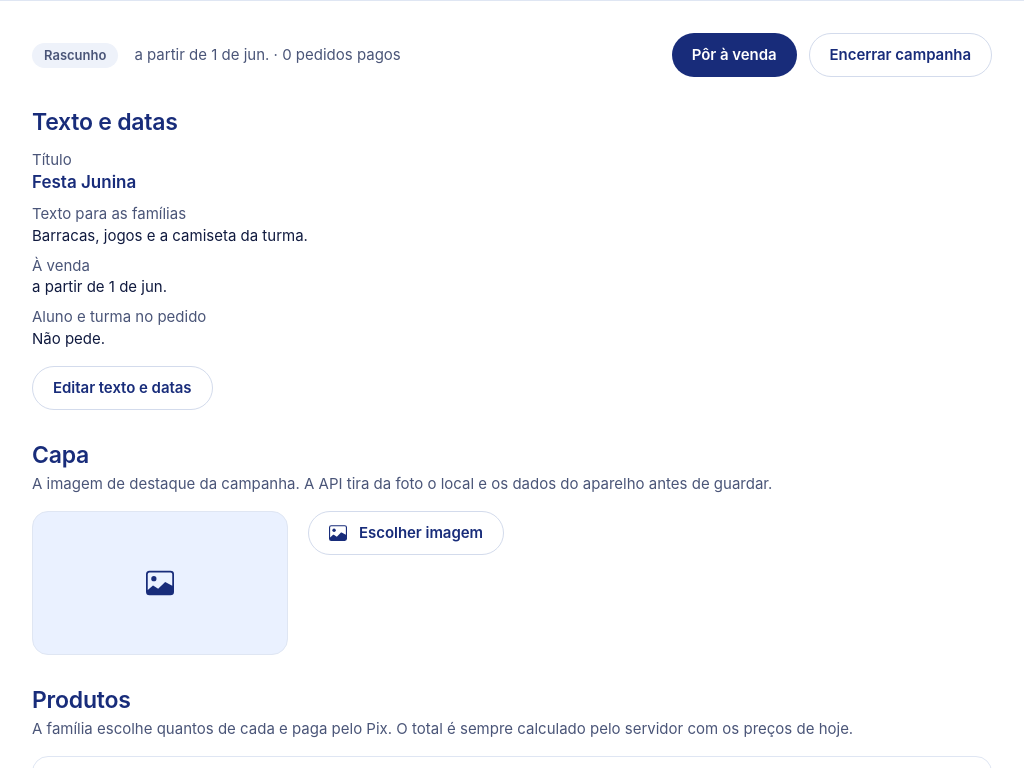
Test: editor de uma campanha › titulo vazio e datas trocadas sao avisados sem falar com a API
The width and height of the screenshot is (1024, 768).
Click the button "Editar texto e datas" at (122, 388), box [32,366,213,410]
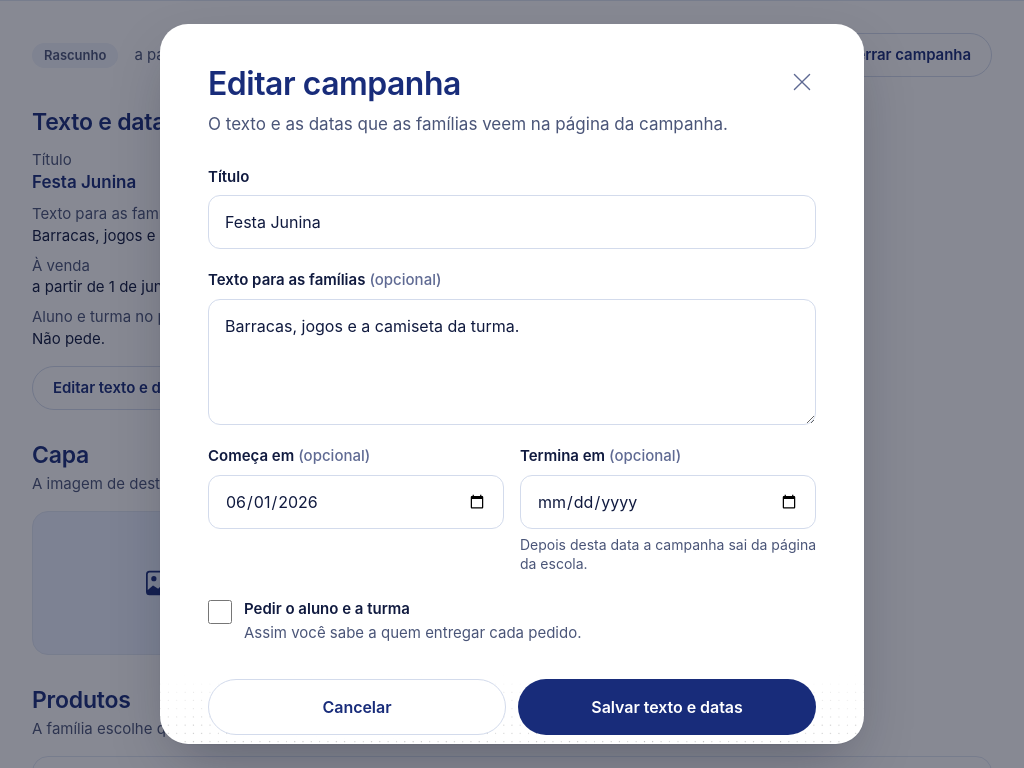
Clear the field labelled "Título" at (512, 222), box [208,195,816,249]
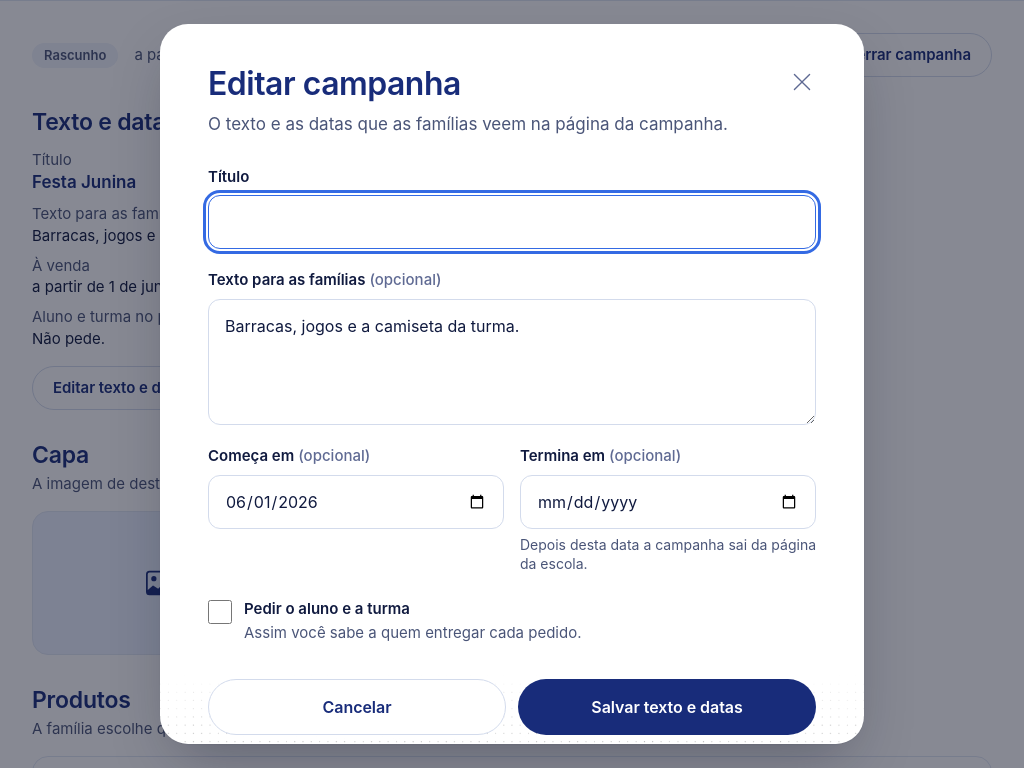
Type "2026-05-01" into the date field labelled "Termina em (opcional)" at (668, 502), box [520,475,816,529]
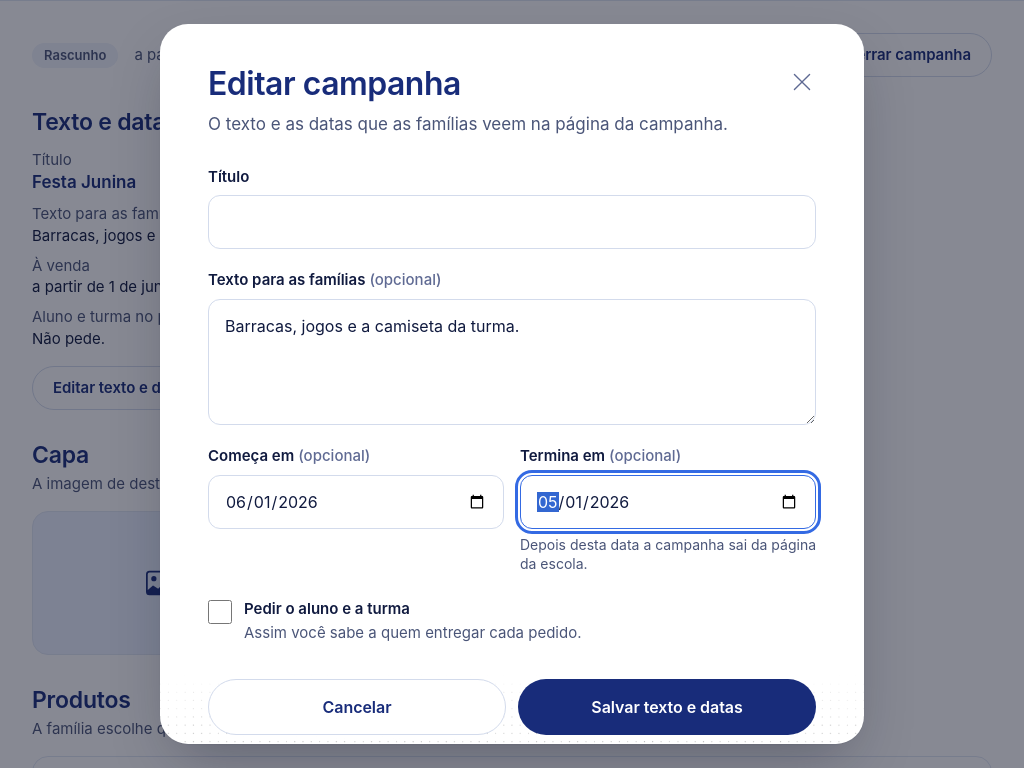
Click the button "Salvar texto e datas" at (667, 707), box [518,679,816,735]
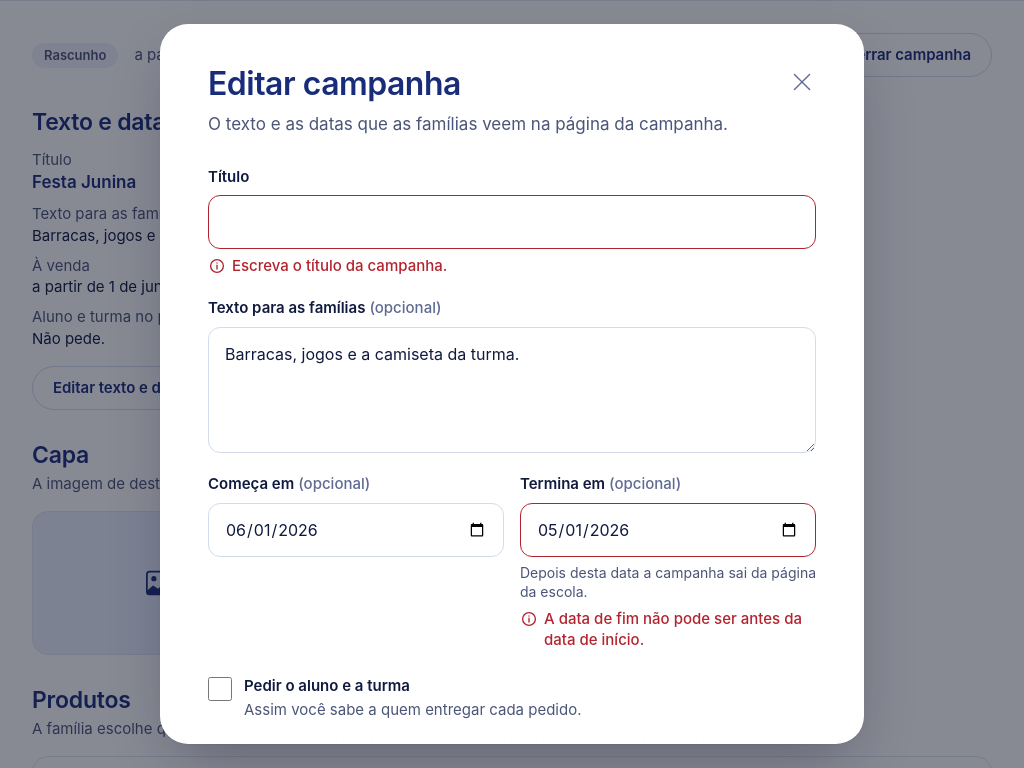
Expected: the text "Escreva o título da campanha." is shown, [208,256,447,275]
Expected: the text "A data de fim não pode ser antes da data de início." is shown, [520,608,816,651]
